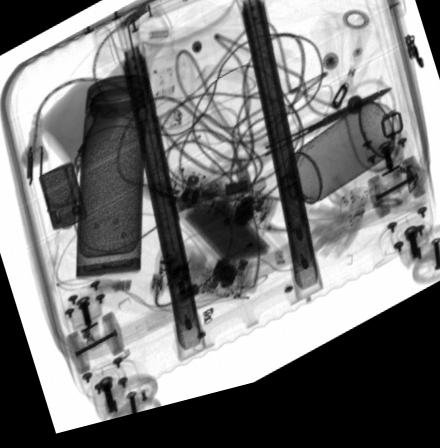Lighter: (39, 165, 87, 234)
Powerbank: (167, 183, 286, 301)
Scissors: (207, 106, 394, 210)
Sprayer: (285, 122, 393, 219)
